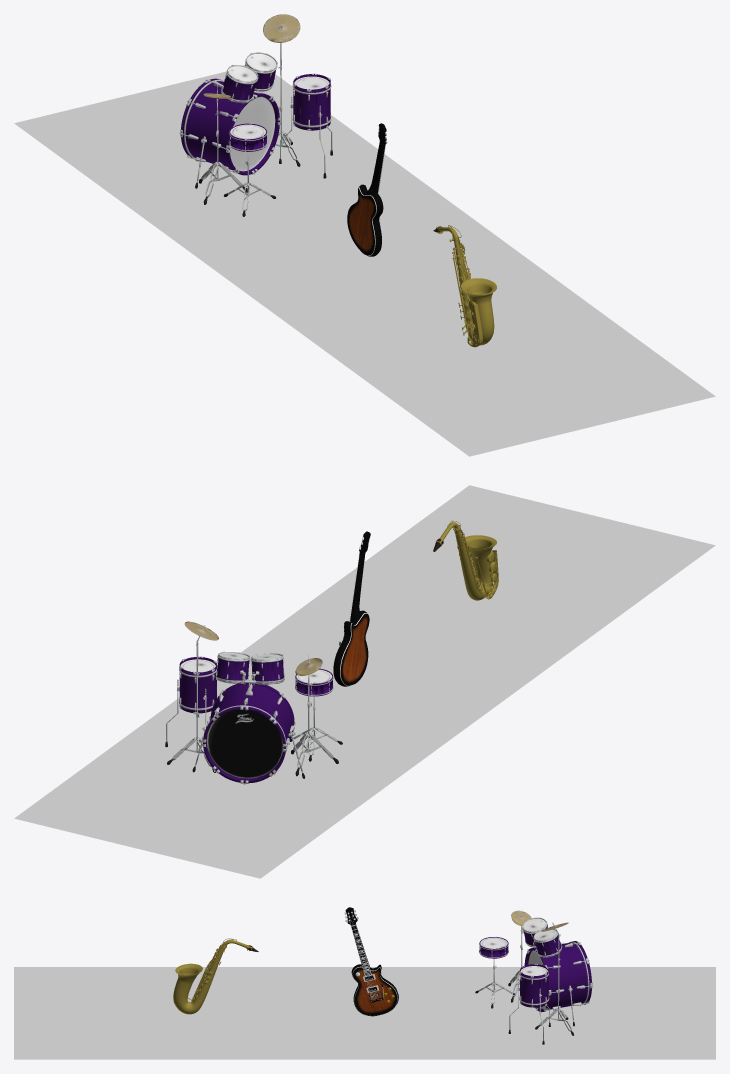
File: audio-med.glb
3 renders of one model, top to bottom at view 1: azimuth 30°, elevation 25°; view 2: azimuth 150°, elevation 25°; view 3: azimuth 270°, elevation 25°, orthographic. The views are drawn at different scales.
Parts seen in each view (by area): view 1: Backdrop, Drum_Big_High_poly_pasted__lambert12_0.001, pCube64, Drum_High_poly, Object_2, Tails_2_High_poly, Drum_Big_High_poly_pasted__lambert12_0.002, Object_3, Drum_snall_High_poly_pasted__lambert12_0.001, Tails_High_poly; view 2: Backdrop, Drum_Big_High_poly_pasted__lambert12_0.001, pCube64, Drum_High_poly, Object_2, Drum_Big_High_poly_pasted__lambert12_0.002, Tails_High_poly, Tails_2_High_poly, Drum_snall_High_poly_pasted__lambert12_0.001; view 3: Backdrop, Drum_Big_High_poly_pasted__lambert12_0.001, pCube64, Object_2, Drum_High_poly, Drum_Big_High_poly_pasted__lambert12_0.002, Tails_2_High_poly, Drum_snall_High_poly_pasted__lambert12_0.001, Drum_snall_High_poly, Tails_High_poly, Drum_Big_High_poly, Object_3.
Boxes of the visible parts, x1,y1,x2,y2 form: Backdrop: (14, 71, 715, 456); Drum_Big_High_poly_pasted__lambert12_0.001: (180, 60, 279, 188); pCube64: (347, 123, 387, 256); Drum_High_poly: (279, 73, 332, 178); Object_2: (439, 227, 496, 345); Tails_2_High_poly: (263, 14, 300, 166); Drum_Big_High_poly_pasted__lambert12_0.002: (179, 52, 277, 174); Object_3: (448, 225, 473, 339); Drum_snall_High_poly_pasted__lambert12_0.001: (228, 123, 275, 210); Tails_High_poly: (199, 84, 247, 204); Backdrop: (14, 485, 715, 878); Drum_Big_High_poly_pasted__lambert12_0.001: (203, 652, 304, 783); pCube64: (333, 531, 370, 686); Drum_High_poly: (165, 656, 217, 747); Object_2: (440, 522, 496, 600); Drum_Big_High_poly_pasted__lambert12_0.002: (215, 652, 299, 784); Tails_High_poly: (291, 655, 338, 776); Tails_2_High_poly: (167, 621, 218, 772); Drum_snall_High_poly_pasted__lambert12_0.001: (290, 668, 338, 742); Backdrop: (14, 967, 715, 1059); Drum_Big_High_poly_pasted__lambert12_0.001: (522, 917, 591, 1012); pCube64: (344, 907, 398, 1016); Object_2: (173, 940, 247, 1014); Drum_High_poly: (508, 964, 550, 1044); Drum_Big_High_poly_pasted__lambert12_0.002: (522, 920, 581, 1011); Tails_2_High_poly: (535, 922, 573, 1035); Drum_snall_High_poly_pasted__lambert12_0.001: (479, 937, 508, 1008); Drum_snall_High_poly: (475, 936, 514, 1003); Tails_High_poly: (508, 909, 531, 1002); Drum_Big_High_poly: (527, 920, 593, 1026); Object_3: (192, 939, 236, 1001).
Size of the model in its own units: 4.61 by 2.53 by 14.76.
18 materials, 3 textured.
